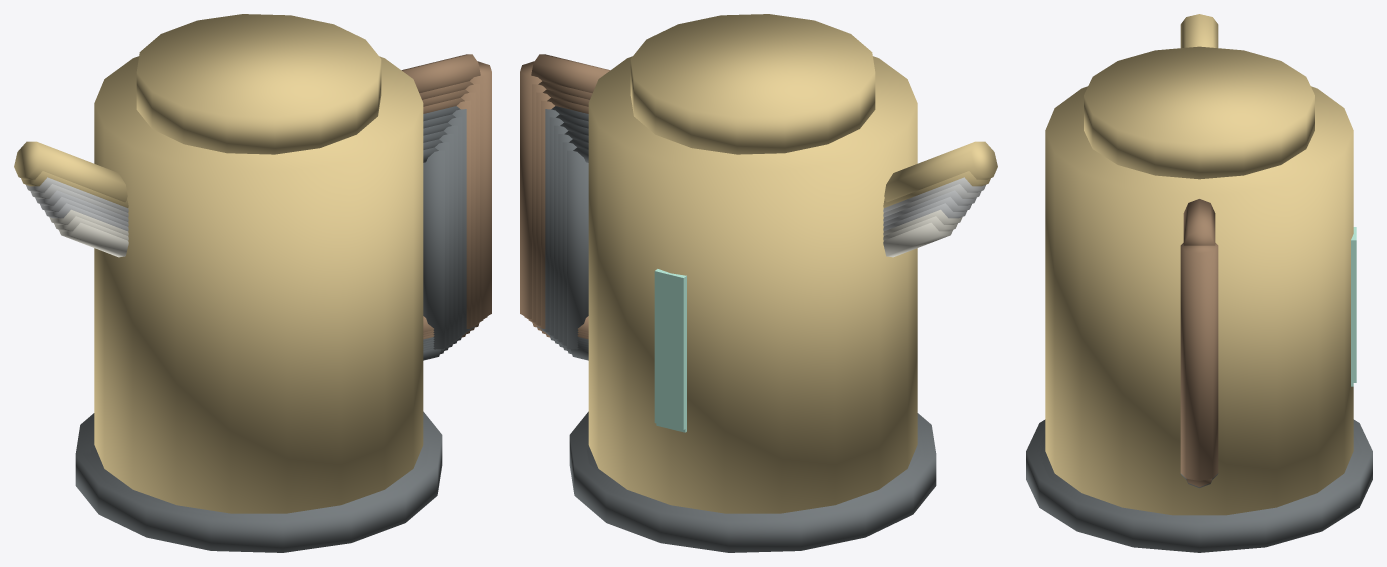
Rendered from Gear02.fbx.
3 views of the same model, side by side, from view 1: azimuth 30°, elevation 25°; view 2: azimuth 150°, elevation 25°; view 3: azimuth 270°, elevation 25° (orthographic). The views are drawn at different scales.
Parts seen in each view (by area): view 1: Gear02_V10_Brass, Gear02_V10_Charcoal, Gear02_V10_Walnut, Gear02_V1_Charcoal, Gear02_V6_Charcoal, Gear02_V9_Walnut, Gear02_V5_Charcoal, Gear02_V8_Walnut, Gear02_V9_Charcoal, Gear02_V7_Walnut, Gear02_V4_Charcoal, Gear02_V7_Charcoal (+7 smaller); view 2: Gear02_V10_Brass, Gear02_V10_Charcoal, Gear02_V10_Walnut, Gear02_V10_Glow, Gear02_V1_Charcoal, Gear02_V6_Charcoal, Gear02_V9_Charcoal, Gear02_V9_Walnut, Gear02_V8_Walnut, Gear02_V5_Charcoal, Gear02_V7_Walnut, Gear02_V4_Charcoal (+7 smaller); view 3: Gear02_V10_Brass, Gear02_V10_Charcoal, Gear02_V10_Walnut, Gear02_V7_Charcoal, Gear02_V9_Charcoal, Gear02_V10_Glow.
Part boxes in pixels (x1=…): Gear02_V10_Brass: x1=14, y1=14, x2=423, y2=513; Gear02_V10_Charcoal: x1=75, y1=411, x2=442, y2=552; Gear02_V10_Walnut: x1=401, y1=54, x2=491, y2=332; Gear02_V1_Charcoal: x1=423, y1=147, x2=452, y2=360; Gear02_V6_Charcoal: x1=90, y1=106, x2=474, y2=515; Gear02_V9_Walnut: x1=419, y1=81, x2=487, y2=334; Gear02_V5_Charcoal: x1=94, y1=114, x2=469, y2=514; Gear02_V8_Walnut: x1=422, y1=89, x2=483, y2=336; Gear02_V9_Charcoal: x1=80, y1=416, x2=437, y2=520; Gear02_V7_Walnut: x1=423, y1=97, x2=478, y2=339; Gear02_V4_Charcoal: x1=423, y1=122, x2=465, y2=347; Gear02_V7_Charcoal: x1=86, y1=439, x2=429, y2=517; Gear02_V10_Brass: x1=588, y1=14, x2=997, y2=513; Gear02_V10_Charcoal: x1=569, y1=411, x2=936, y2=552; Gear02_V10_Walnut: x1=520, y1=54, x2=610, y2=332; Gear02_V10_Glow: x1=654, y1=269, x2=686, y2=429; Gear02_V1_Charcoal: x1=559, y1=147, x2=588, y2=360; Gear02_V6_Charcoal: x1=537, y1=106, x2=921, y2=515; Gear02_V9_Charcoal: x1=573, y1=417, x2=929, y2=520; Gear02_V9_Walnut: x1=524, y1=81, x2=592, y2=334; Gear02_V8_Walnut: x1=528, y1=89, x2=589, y2=336; Gear02_V5_Charcoal: x1=542, y1=114, x2=917, y2=514; Gear02_V7_Walnut: x1=533, y1=97, x2=588, y2=339; Gear02_V4_Charcoal: x1=546, y1=122, x2=588, y2=347; Gear02_V10_Brass: x1=1045, y1=14, x2=1353, y2=515; Gear02_V10_Charcoal: x1=1026, y1=419, x2=1372, y2=552; Gear02_V10_Walnut: x1=1180, y1=199, x2=1218, y2=486; Gear02_V7_Charcoal: x1=1037, y1=433, x2=1361, y2=519; Gear02_V9_Charcoal: x1=1030, y1=449, x2=1368, y2=522; Gear02_V10_Glow: x1=1351, y1=227, x2=1356, y2=382.
Size of the model in its own units: 32.44 by 26.95 by 22.05.
